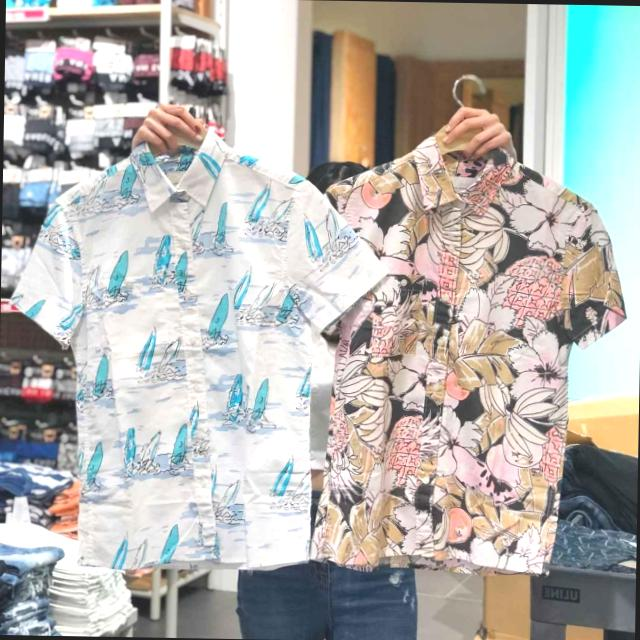shirt: (30, 145, 358, 570), (314, 140, 626, 567)
